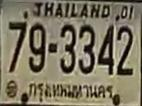2: (116, 26, 134, 77)
3: (78, 24, 94, 73), (60, 24, 76, 72)
4: (97, 24, 113, 74)
7: (8, 21, 26, 73)
9: (28, 22, 45, 72)
BKK: (26, 79, 116, 103)
